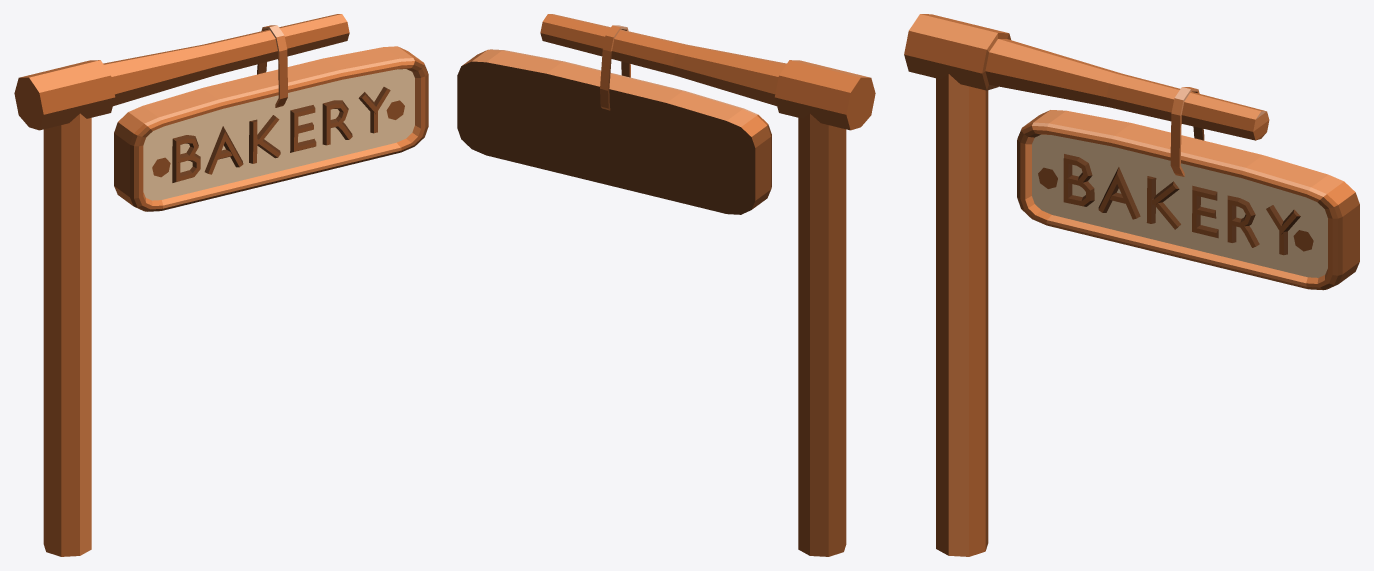
The model's file is BAKE_EXT_L1_SignStand_01.fbx.
The picture shows the model from 3 angles, left to right: view 1: azimuth 30°, elevation 25°; view 2: azimuth 150°, elevation 25°; view 3: azimuth 330°, elevation 25°; orthographic projection. The views are drawn at different scales.
Parts seen in each view (by area): view 1: BAKE_EXT_L1_SignStand_01; view 2: BAKE_EXT_L1_SignStand_01; view 3: BAKE_EXT_L1_SignStand_01.
Part boxes in pixels (box(x1,y1,x2,y2)): BAKE_EXT_L1_SignStand_01: box(14, 14, 428, 556); BAKE_EXT_L1_SignStand_01: box(457, 14, 875, 556); BAKE_EXT_L1_SignStand_01: box(904, 14, 1359, 556).
Bounding box in the file's own units: 3.65 × 4.24 × 0.4707.
